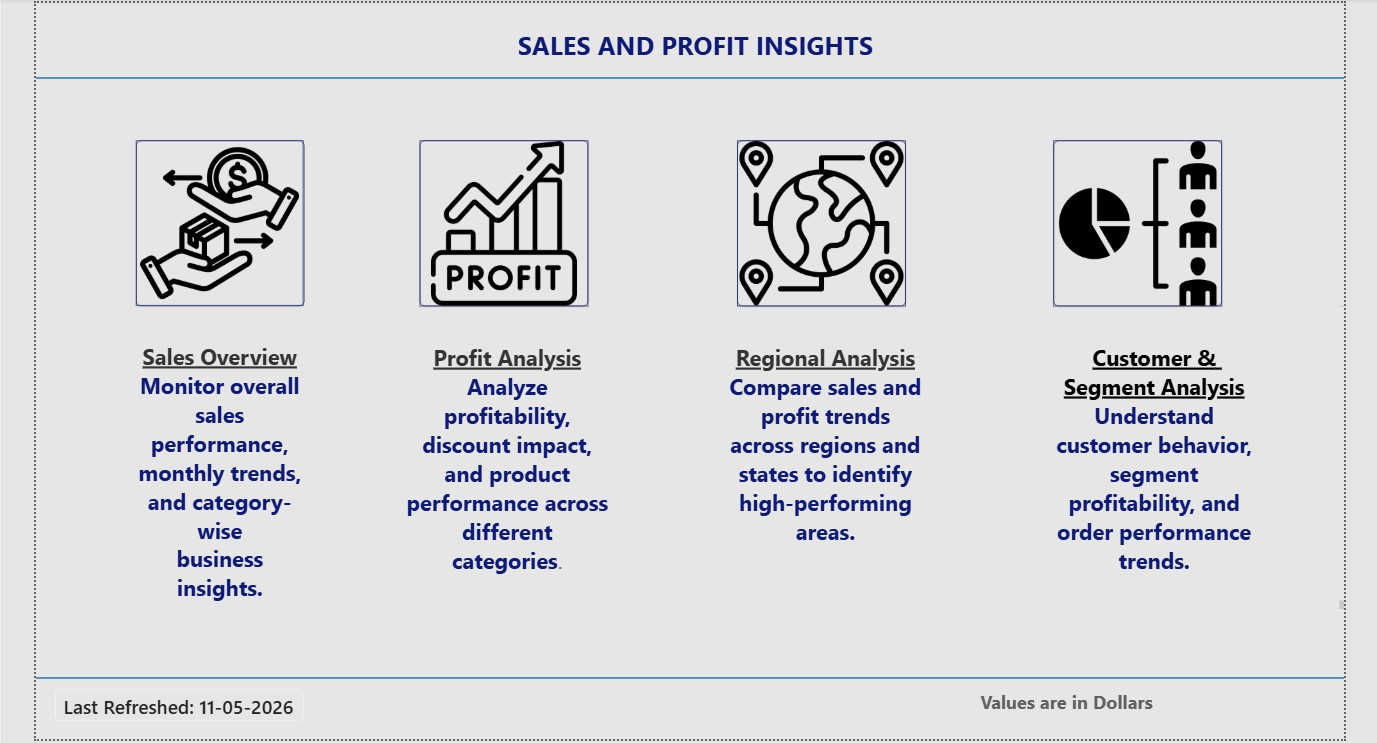

The dashboard page shown, as its layout file describes it:
{"tool":"powerbi","page":{"name":"Home","canvas":[1920,1080],"ordinal":0},"visuals":[{"type":"textbox","box":[74.1,37,1788.7,82.3],"z":0},{"type":"actionButton","box":[146.1,201.7,247,242.9],"z":1000},{"type":"actionButton","box":[564,201.7,247,242.9],"z":2000},{"type":"actionButton","box":[1029.2,201.7,247,242.9],"z":3000},{"type":"actionButton","box":[1492.3,201.7,247,242.9],"z":4000},{"type":"image","box":[146.7,201.8,245.8,242.1],"z":5000},{"type":"image","box":[564,201.7,247,242.9],"z":6000},{"type":"image","box":[1029.2,201.7,247,242.9],"z":7000},{"type":"image","box":[1492.3,201.7,247,242.9],"z":8000},{"type":"shape","box":[0,36.7,1920.5,146.7],"z":9000},{"type":"textbox","box":[146.7,478.7,245.8,410.9],"z":10000},{"type":"textbox","box":[542.9,498.9,297.1,390.7],"z":11000},{"type":"textbox","box":[1016.2,498.9,284.3,390.7],"z":12000},{"type":"textbox","box":[1493.1,498.9,295.3,390.7],"z":13000},{"type":"cardVisual","fields":{"Data":["Key measure.Last Refresh Date"]},"box":[27.5,1007,366.8,47.7],"z":14000},{"type":"textbox","box":[392.5,443.9,1527.9,1.8],"z":15000},{"type":"textbox","box":[1770.1,876.8,150.4,12.8],"z":16000},{"type":"textbox","box":[1120.7,1007,783.2,47.7],"z":17000},{"type":"shape","box":[0,900.6,1920.5,179.8],"z":18000}]}

Visuals, with their boxes on the page's 1920x1080 design canvas (x1, y1, x2, y2). These are canvas units, not pixel positions in the 1377x743 screenshot, which may show the page scaled, cropped or inside an application window:
textbox: (74,37,1863,119)
actionButton: (146,202,393,445)
actionButton: (564,202,811,445)
actionButton: (1029,202,1276,445)
actionButton: (1492,202,1739,445)
image: (147,202,392,444)
image: (564,202,811,445)
image: (1029,202,1276,445)
image: (1492,202,1739,445)
shape: (0,37,1920,183)
textbox: (147,479,392,890)
textbox: (543,499,840,890)
textbox: (1016,499,1300,890)
textbox: (1493,499,1788,890)
cardVisual - Key measure.Last Refresh Date: (28,1007,394,1055)
textbox: (392,444,1920,446)
textbox: (1770,877,1920,890)
textbox: (1121,1007,1904,1055)
shape: (0,901,1920,1080)
